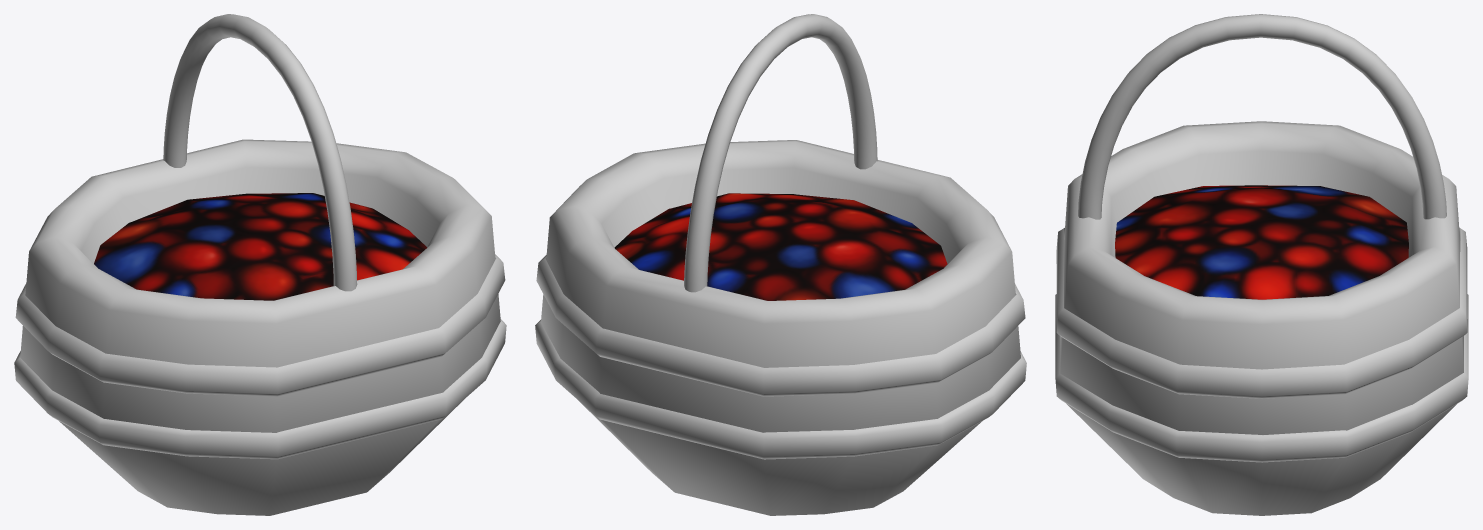
Rendered from berryBasket.fbx.
3 views of the same model, side by side, from view 1: azimuth 30°, elevation 25°; view 2: azimuth 150°, elevation 25°; view 3: azimuth 270°, elevation 25° (orthographic).
Visible parts, largest first — view 1: LOD_0123.5; view 2: LOD_0123.5; view 3: LOD_0123.5.
Boxes of the visible parts, x1,y1,x2,y2 form: LOD_0123.5: [14, 14, 506, 515]; LOD_0123.5: [535, 14, 1026, 515]; LOD_0123.5: [1055, 14, 1468, 515].
Size of the model in its own units: 91.95 by 89.37 by 76.
